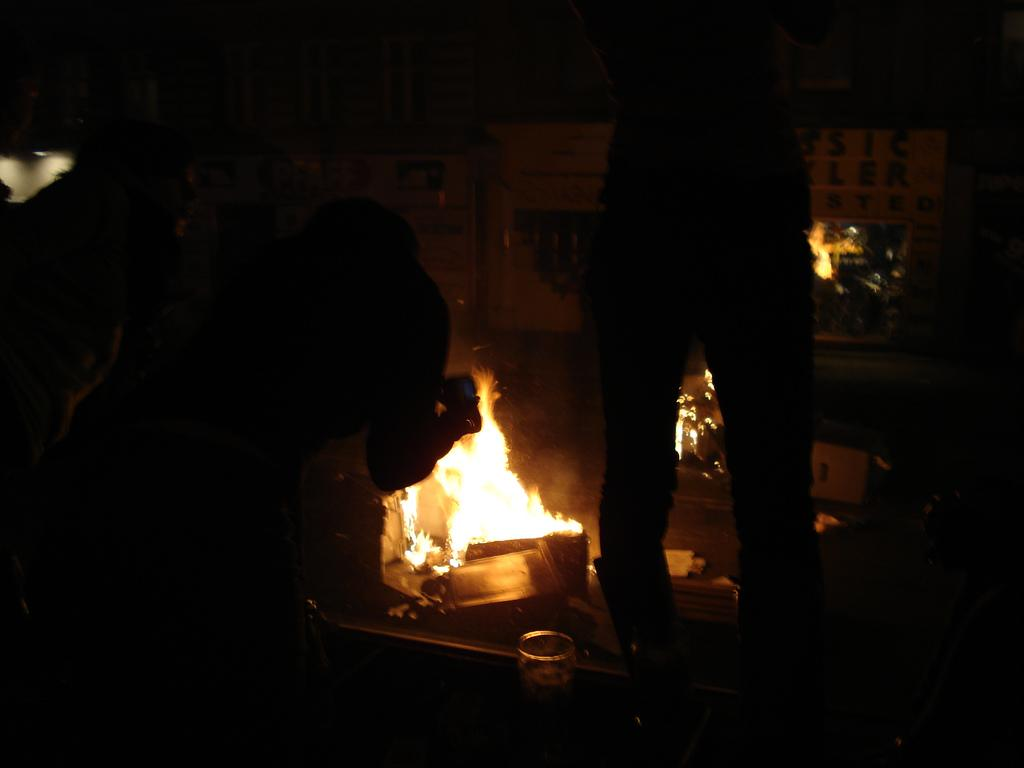fire: (420, 458, 572, 536)
